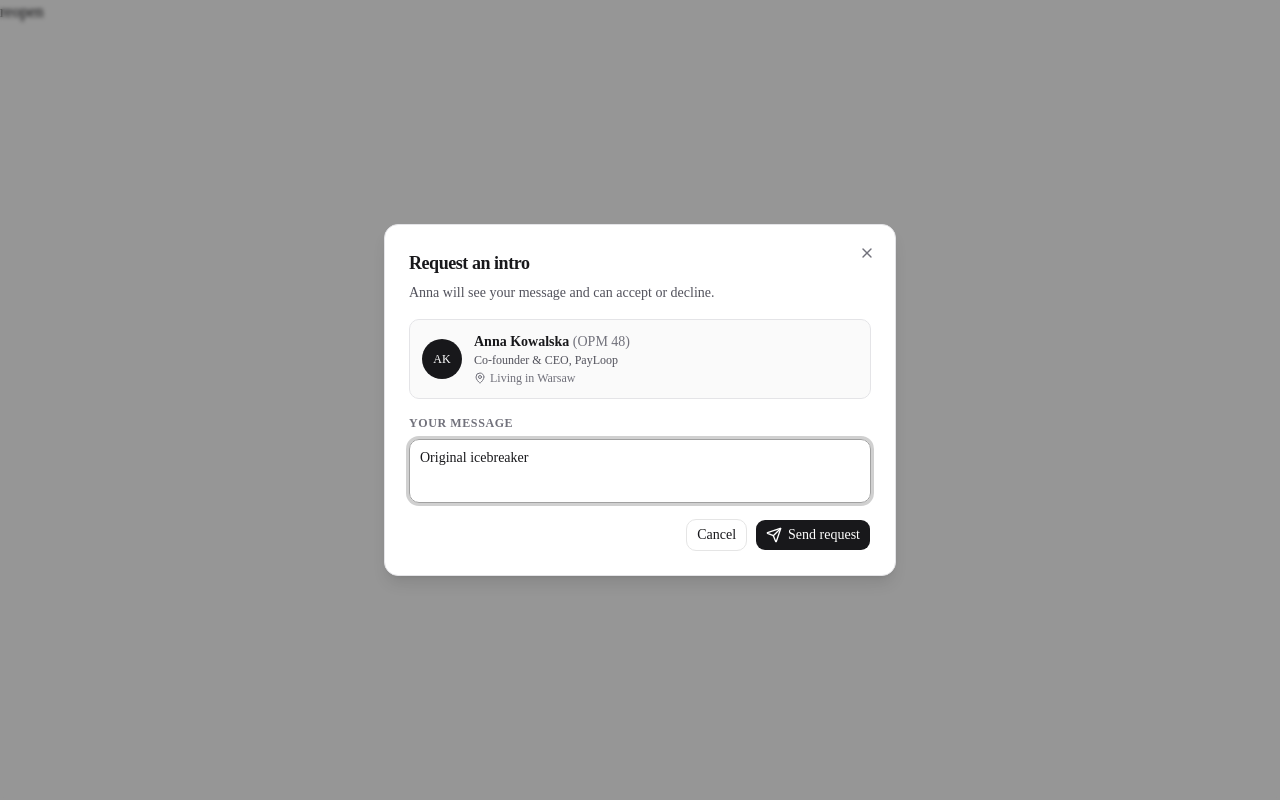
Scenario: RequestIntroDialog › disables sending for a blank message
This screenshot has width=1280, height=800.
Expected: the button "Send request" is enabled, [755, 519, 871, 551]
Clear the text box labelled "Your message" at (640, 471), box [409, 439, 871, 503]
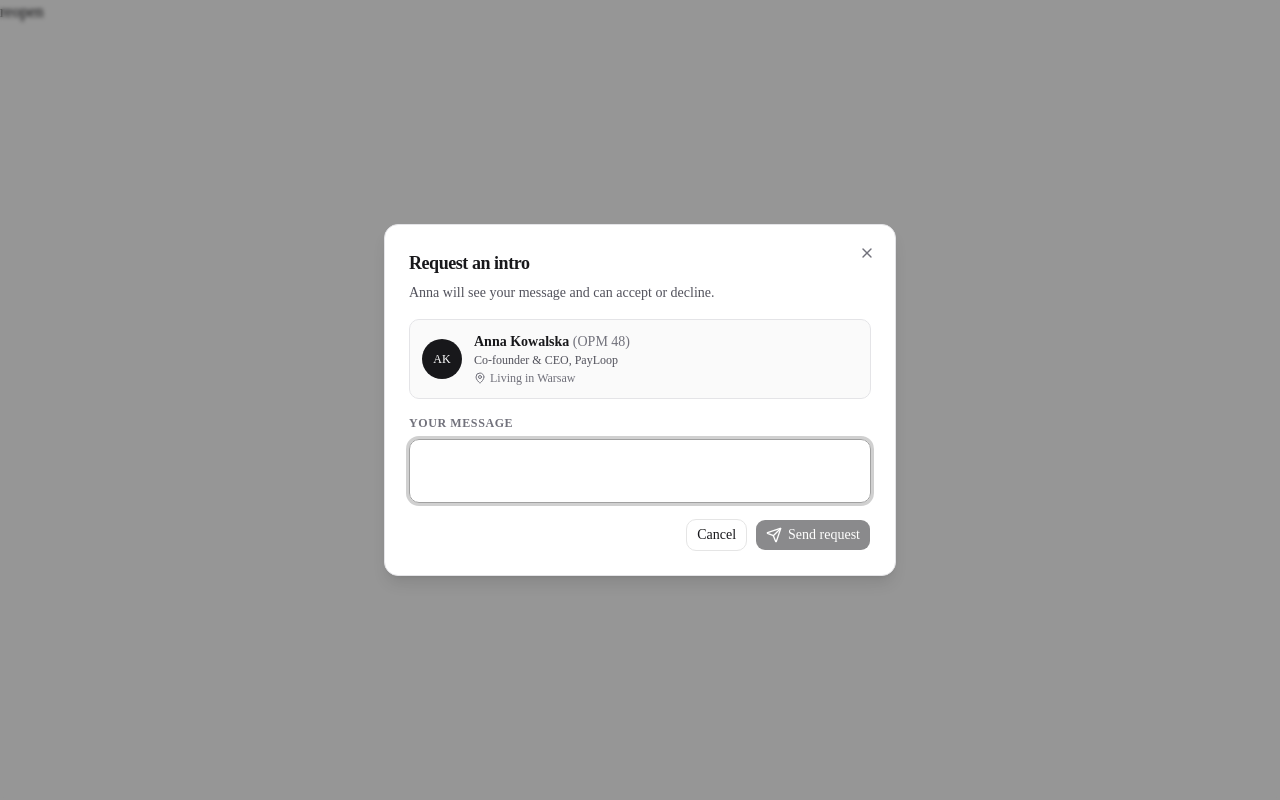
Expected: the button "Send request" is disabled, [755, 519, 871, 551]
